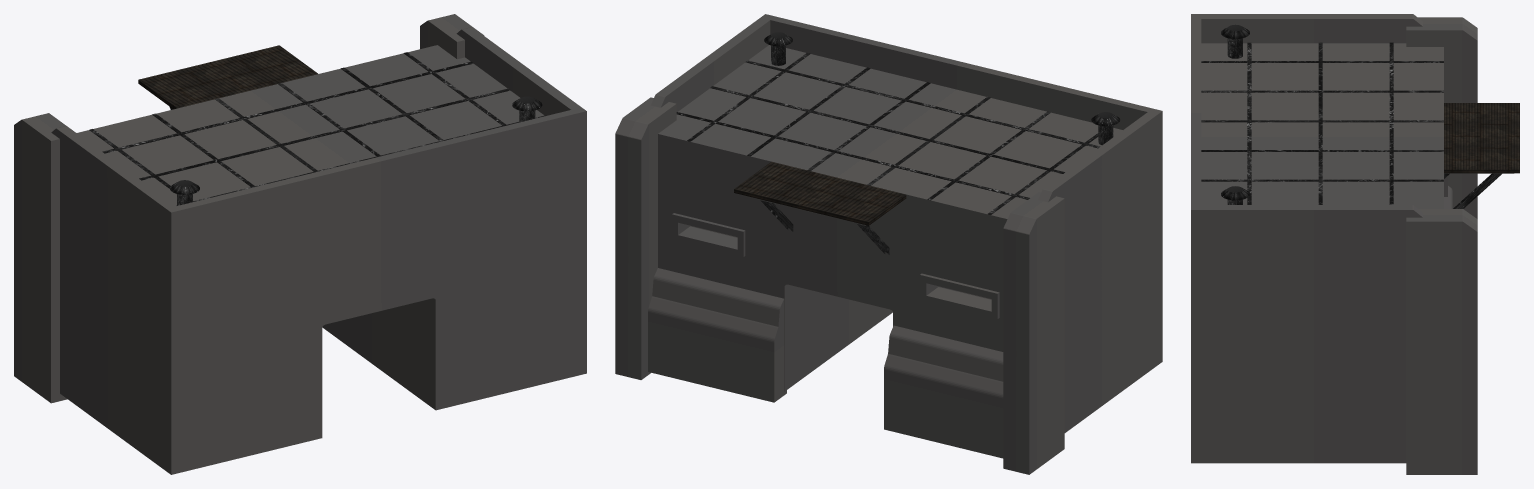
Rendered from tower.glb.
3 views of the same model, side by side, from view 1: azimuth 30°, elevation 25°; view 2: azimuth 150°, elevation 25°; view 3: azimuth 270°, elevation 25° (orthographic). The views are drawn at different scales.
Visible parts, largest first — view 1: Cube, Cube.002, Cube.001, Cube.010, Cube.006, Cube.003; view 2: Cube, Cube.002, Cube.004, Cube.005, Cube.003, Cube.001, Cube.010, Cube.006, Cylinder.001, Cylinder; view 3: Cube, Cube.003, Cube.001, Cube.002, Cube.006, Cube.010, Cylinder, PlatformSupport, Cylinder.001.
Part boxes in pixels (x1,y1,x2,y2): Cube: [51, 27, 586, 474]; Cube.002: [14, 113, 67, 403]; Cube.001: [138, 45, 317, 109]; Cube.010: [102, 61, 545, 205]; Cube.006: [89, 52, 506, 188]; Cube.003: [420, 14, 484, 59]; Cube: [651, 14, 1162, 432]; Cube.002: [1003, 192, 1064, 474]; Cube.004: [648, 268, 786, 402]; Cube.005: [884, 325, 1003, 458]; Cube.003: [615, 97, 676, 379]; Cube.001: [734, 161, 906, 225]; Cube.010: [676, 60, 1100, 199]; Cube.006: [687, 52, 1098, 214]; Cylinder.001: [764, 32, 792, 65]; Cylinder: [1091, 112, 1119, 145]; Cube: [1191, 14, 1447, 463]; Cube.003: [1406, 209, 1477, 474]; Cube.001: [1444, 103, 1519, 173]; Cube.002: [1406, 17, 1477, 218]; Cube.006: [1201, 61, 1443, 181]; Cube.010: [1247, 42, 1393, 204]; Cylinder: [1221, 24, 1249, 58]; PlatformSupport: [1453, 173, 1501, 208]; Cylinder.001: [1221, 186, 1249, 204].
Size of the model in its own units: 17.2 by 10.38 by 11.7.
3 materials, 3 textured.
